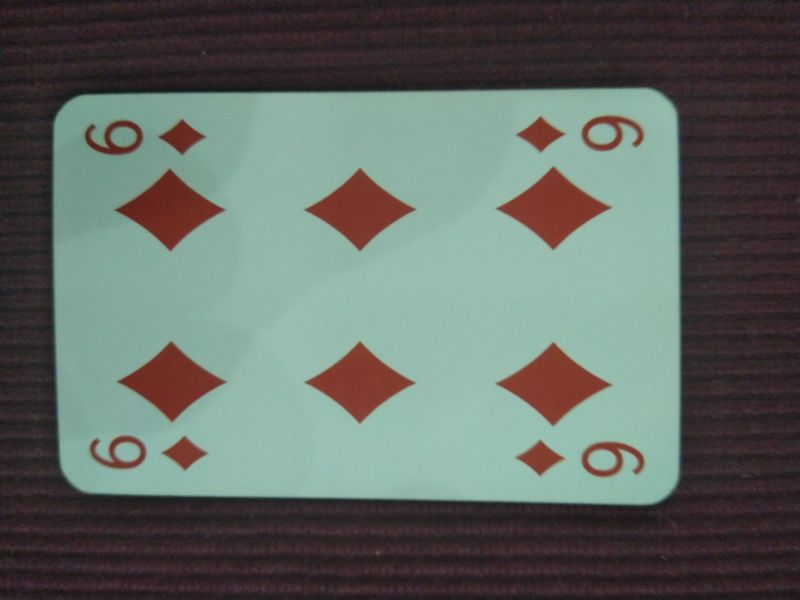6d: (76, 110, 215, 161), (513, 434, 652, 484), (510, 111, 650, 158), (86, 430, 214, 477)
